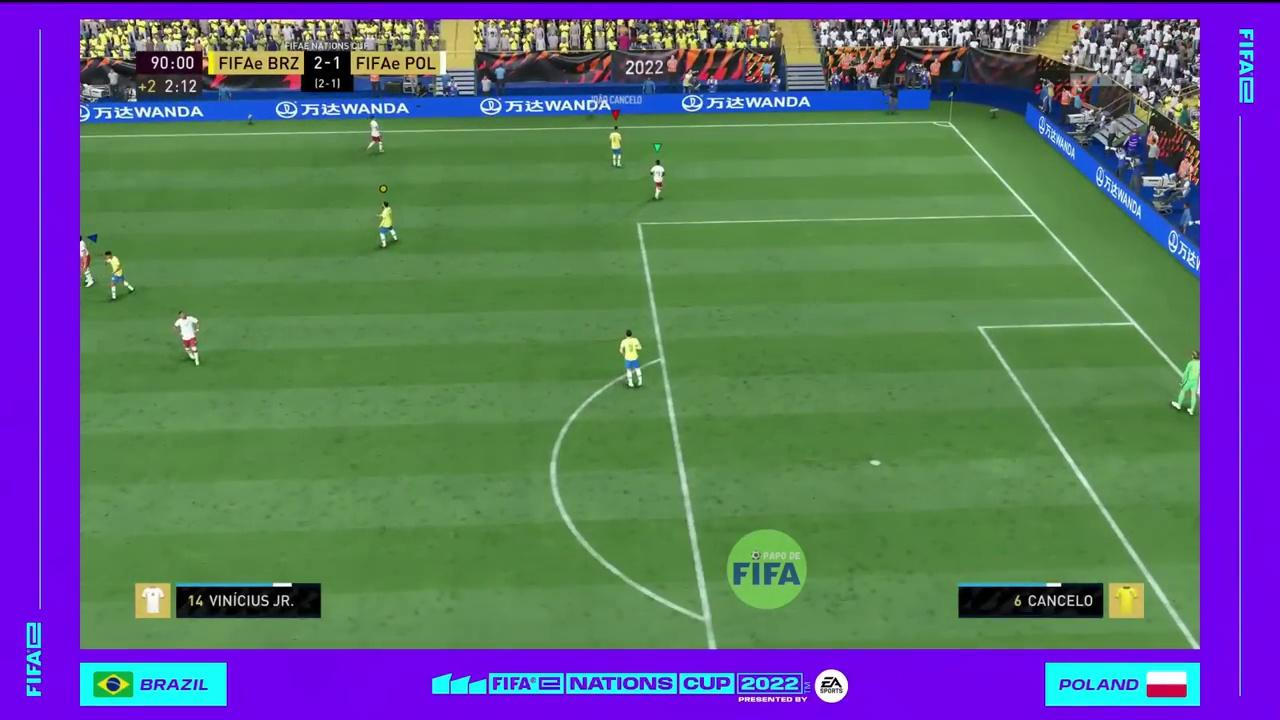timestamp: (132, 49, 206, 100)
